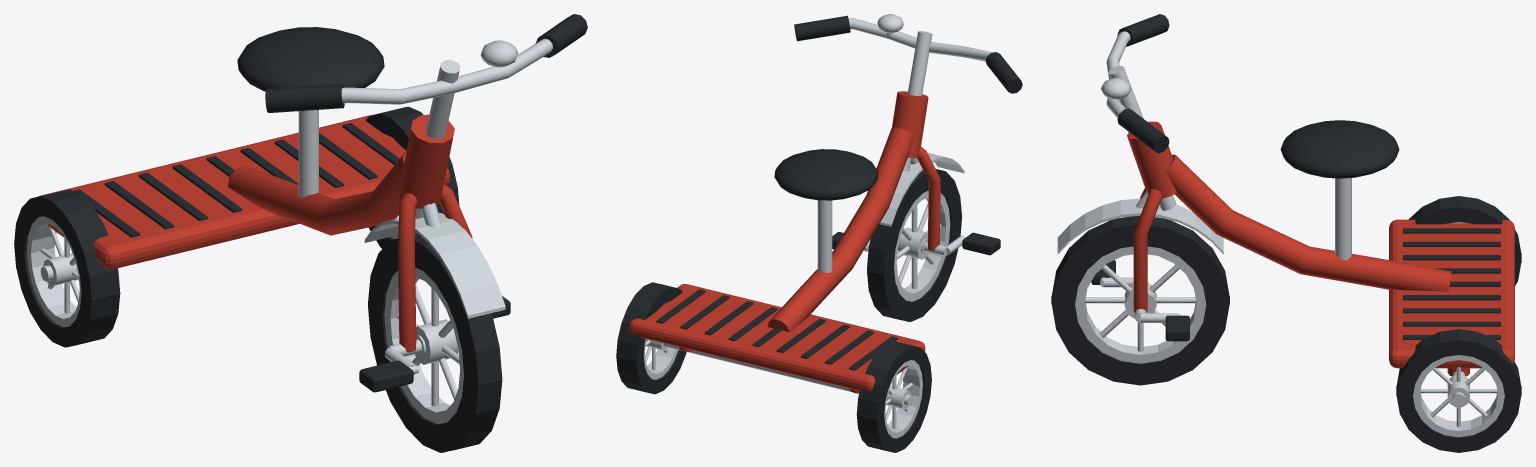
File: A-NEW-20261026-PEDAL-TRICYCLE-001_LOD2_R1.glb
3 views of the same model, side by side, from view 1: azimuth 30°, elevation 25°; view 2: azimuth 150°, elevation 25°; view 3: azimuth 270°, elevation 25° (orthographic). The views are drawn at different scales.
Parts seen in each view (by area): view 1: rear grooved standing platform, front tire, rear -1 tire, rounded saddle, curved main frame, curved front mudguard, curved handlebar, steering head, front rim, front fork -1, rear -1 rim, ribbed hand grip -1 (+15 smaller); view 2: rear grooved standing platform, curved main frame, front tire, rear -1 tire, rounded saddle, rear 1 tire, front rim, steering head, curved handlebar, rear -1 rim, front fork -1, curved front mudguard (+9 smaller); view 3: front tire, rear grooved standing platform, curved main frame, rear 1 tire, rounded saddle, front rim, curved front mudguard, rear 1 rim, rear -1 tire, front fork 1, steering head, saddle seatpost (+14 smaller).
Boxes of the visible parts, box(x1,y1,x2,y2) form: rear grooved standing platform: box(39, 115, 450, 269); front tire: box(368, 233, 502, 452); rear -1 tire: box(14, 189, 120, 347); rounded saddle: box(237, 27, 384, 91); curved main frame: box(228, 151, 406, 235); curved front mudguard: box(364, 212, 505, 318); curved handlebar: box(341, 38, 552, 104); steering head: box(398, 114, 454, 208); front rim: box(384, 267, 463, 424); front fork -1: box(398, 193, 417, 352); rear -1 rim: box(26, 216, 81, 327); ribbed hand grip -1: box(265, 84, 344, 112); rear grooved standing platform: box(629, 284, 925, 391); curved main frame: box(767, 127, 914, 332); front tire: box(867, 169, 961, 321); rear -1 tire: box(856, 341, 931, 452); rounded saddle: box(774, 149, 878, 200); rear 1 tire: box(616, 282, 686, 394); front rim: box(894, 190, 950, 301); steering head: box(892, 91, 928, 158); curved handlebar: box(848, 18, 992, 61); rear -1 rim: box(884, 360, 922, 438); front fork -1: box(916, 147, 940, 250); curved front mudguard: box(879, 152, 964, 226); front tire: box(1052, 216, 1229, 385); rear grooved standing platform: box(1389, 219, 1514, 368); curved main frame: box(1166, 154, 1451, 291); rear 1 tire: box(1396, 329, 1520, 452); rounded saddle: box(1280, 120, 1399, 178); front rim: box(1075, 246, 1206, 363); curved front mudguard: box(1057, 198, 1223, 254); rear 1 rim: box(1413, 355, 1504, 437); rear -1 tire: box(1408, 196, 1520, 285); front fork 1: box(1133, 188, 1161, 312); steering head: box(1127, 121, 1176, 198); saddle seatpost: box(1335, 178, 1351, 260).
Bounding box in the file's own units: 0.51 × 0.505 × 0.6719.
